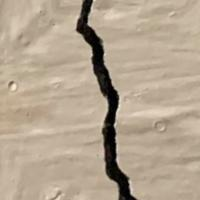crack: (54, 0, 143, 199)
